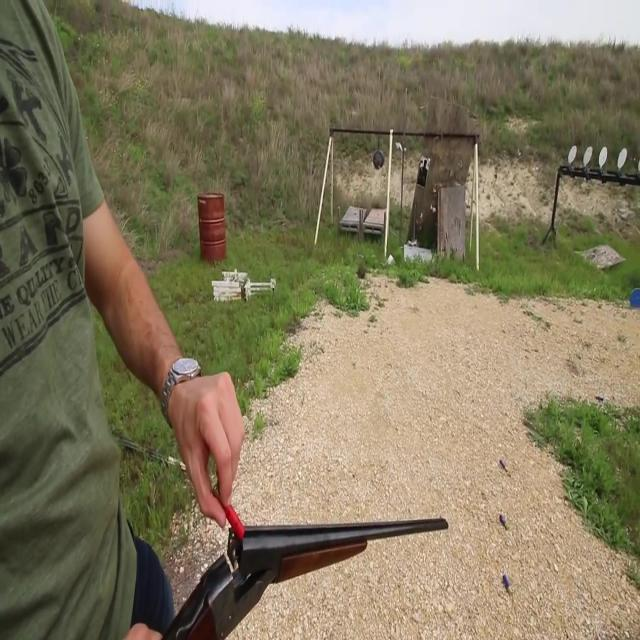Weapon: (115, 439, 471, 640)
